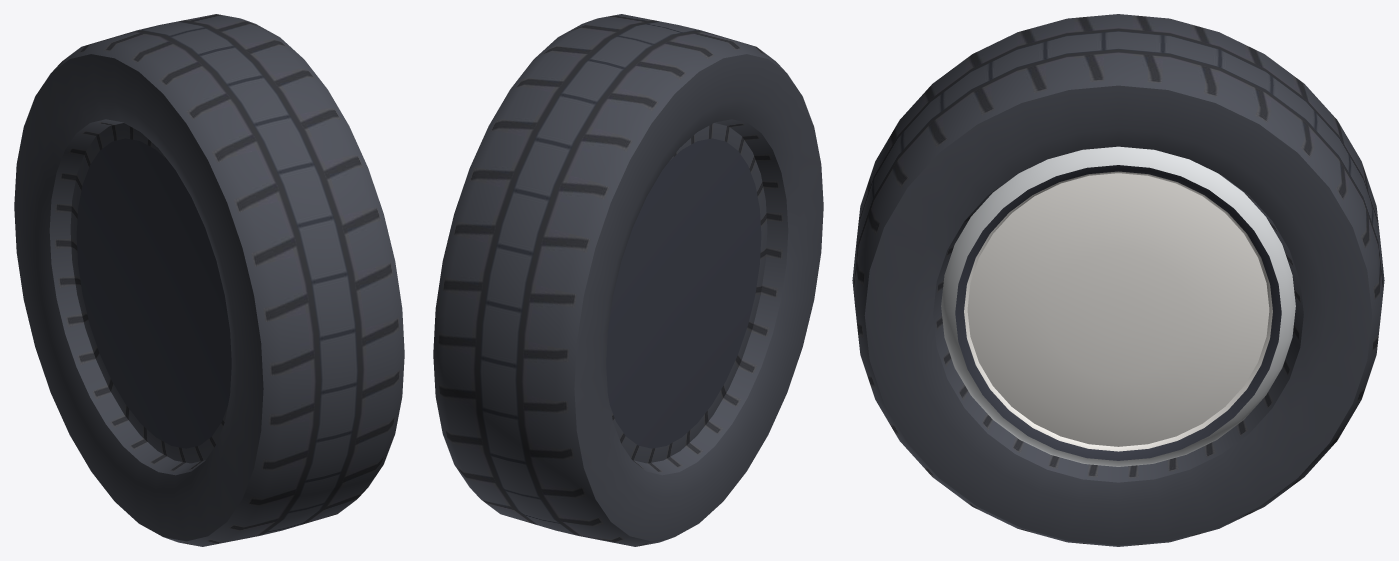
The model's file is wheel.glb.
The picture shows the model from 3 angles, left to right: view 1: azimuth 30°, elevation 25°; view 2: azimuth 150°, elevation 25°; view 3: azimuth 270°, elevation 25°; orthographic projection.
Parts seen in each view (by area): view 1: electric-car_wheel_fl; view 2: electric-car_wheel_fl; view 3: electric-car_wheel_fl.
Part boxes in pixels (box(x1,y1,x2,y2)): electric-car_wheel_fl: box(14, 14, 404, 546); electric-car_wheel_fl: box(433, 14, 823, 546); electric-car_wheel_fl: box(852, 14, 1384, 546).
Size of the model in its own units: 0.2299 by 0.7 by 0.7.
Materials: 4 (1 with a texture image).
